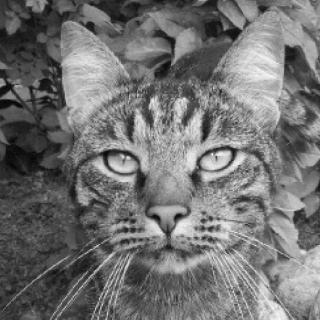cat: (56, 17, 291, 275)
nose: (141, 189, 192, 241)
